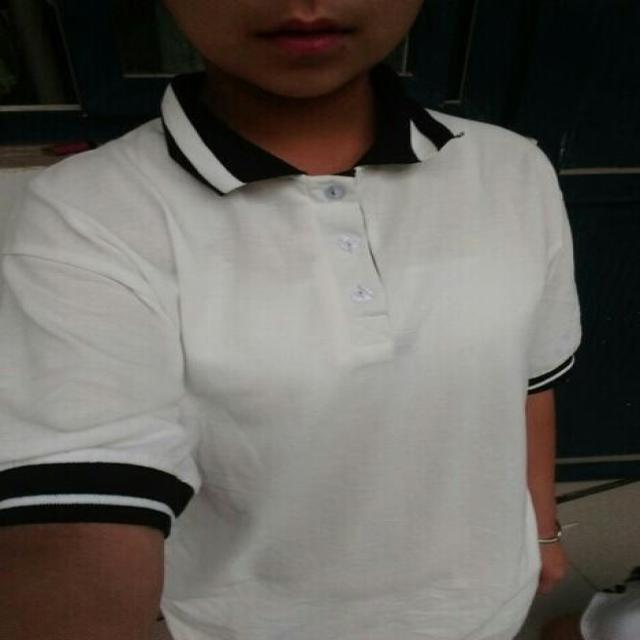long sleeve dress: (3, 71, 573, 639)
